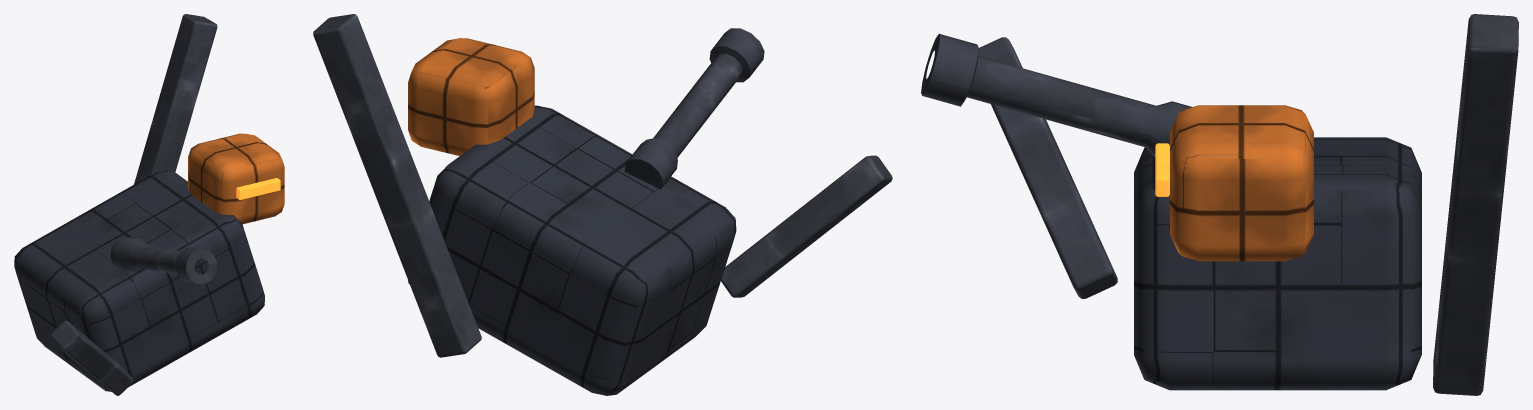
File: sf_ruin.glb
3 renders of one model, left to right at view 1: azimuth 30°, elevation 25°; view 2: azimuth 150°, elevation 25°; view 3: azimuth 270°, elevation 25°, orthographic. The views are drawn at different scales.
Parts seen in each view (by area): view 1: Base; view 2: Base; view 3: Base.
Boxes of the visible parts, box(x1,y1,x2,y2) form: Base: box(14, 14, 284, 395); Base: box(313, 14, 892, 395); Base: box(921, 14, 1518, 395).
Size of the model in its own units: 0.8526 by 0.734 by 0.8301.
Materials: 4 (4 with a texture image).
